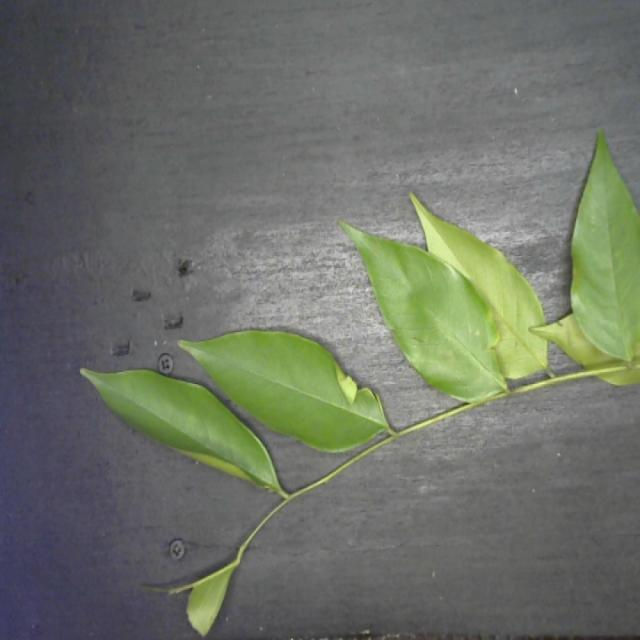biodegradable: (75, 124, 640, 640)
